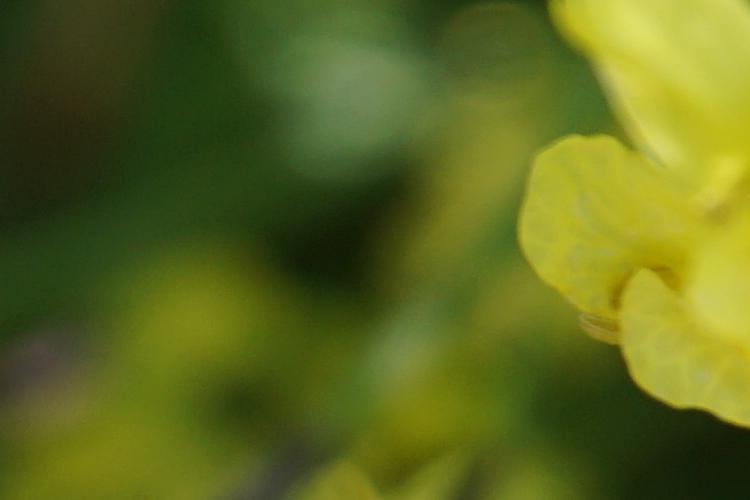yellow: (521, 13, 748, 409)
